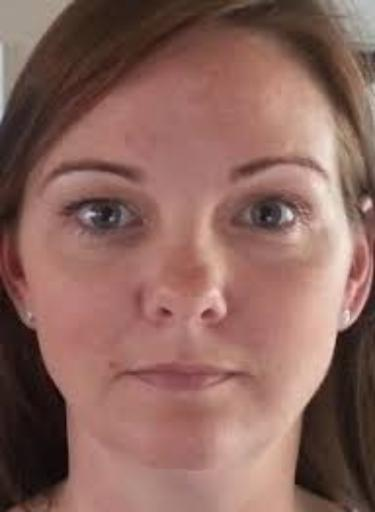left_eye: (226, 202, 303, 237)
left_lip_corner: (229, 363, 259, 389)
right_eye: (61, 204, 145, 242)
right_lip_corner: (112, 364, 140, 388)
